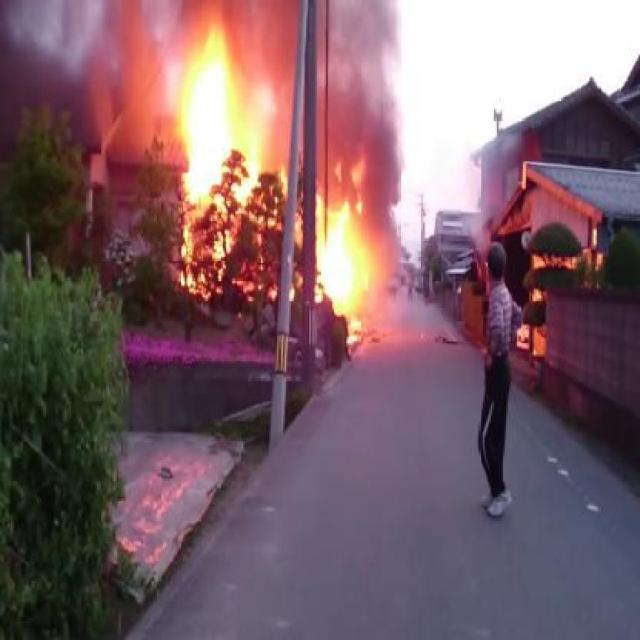Fire: (173, 29, 270, 206), (182, 208, 282, 302), (312, 194, 368, 314), (188, 3, 262, 48), (322, 152, 387, 198), (276, 162, 287, 200), (288, 283, 298, 302)
Smoke: (89, 6, 174, 162), (318, 73, 397, 149)
